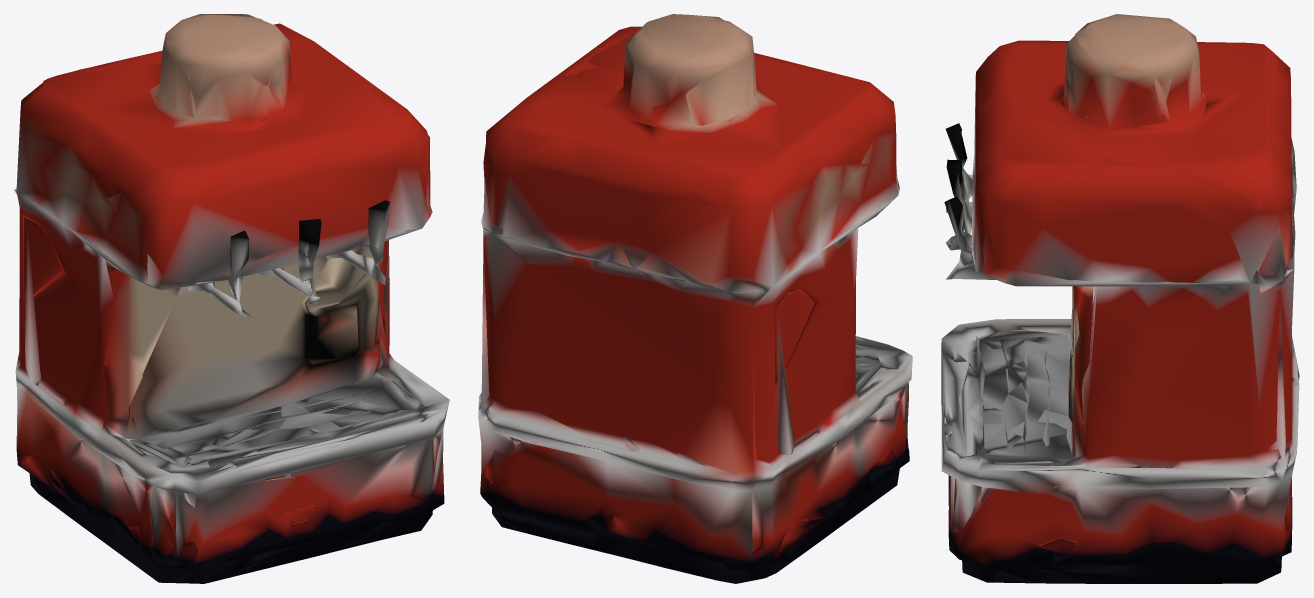
The model's file is gen3d-soda-fountain-lod0.glb.
The picture shows the model from 3 angles, left to right: view 1: azimuth 30°, elevation 25°; view 2: azimuth 150°, elevation 25°; view 3: azimuth 270°, elevation 25°; orthographic projection. The views are drawn at different scales.
Visible parts, largest first — view 1: part_0; view 2: part_0; view 3: part_0.
Boxes of the visible parts, left/top/right/bottom form: part_0: left=14, top=14, right=449, bottom=583; part_0: left=478, top=14, right=912, bottom=583; part_0: left=941, top=14, right=1299, bottom=583.
Bounding box in the file's own units: 0.6766 × 0.9998 × 0.6743.
